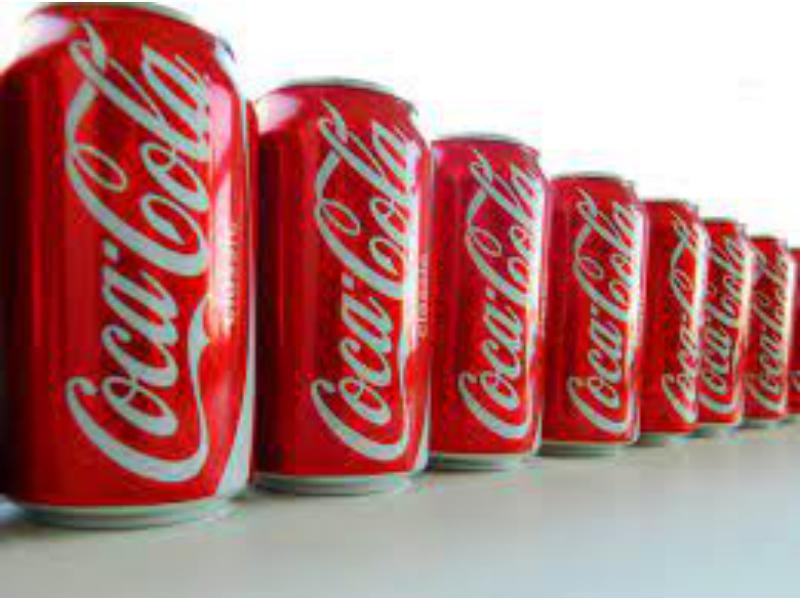can: (8, 2, 248, 532), (256, 75, 443, 501), (431, 131, 551, 474), (546, 168, 649, 458), (640, 199, 702, 446), (696, 216, 750, 436), (748, 234, 799, 437)
